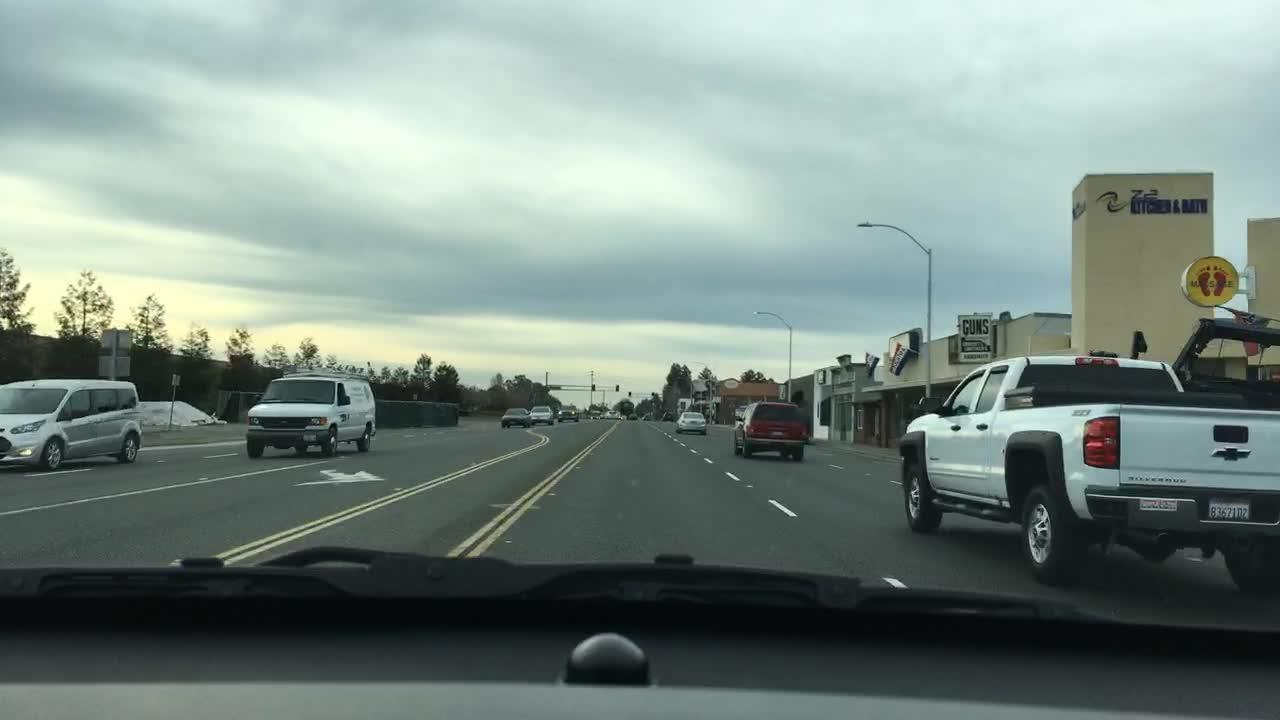chevrolet: (1196, 436, 1269, 480)
